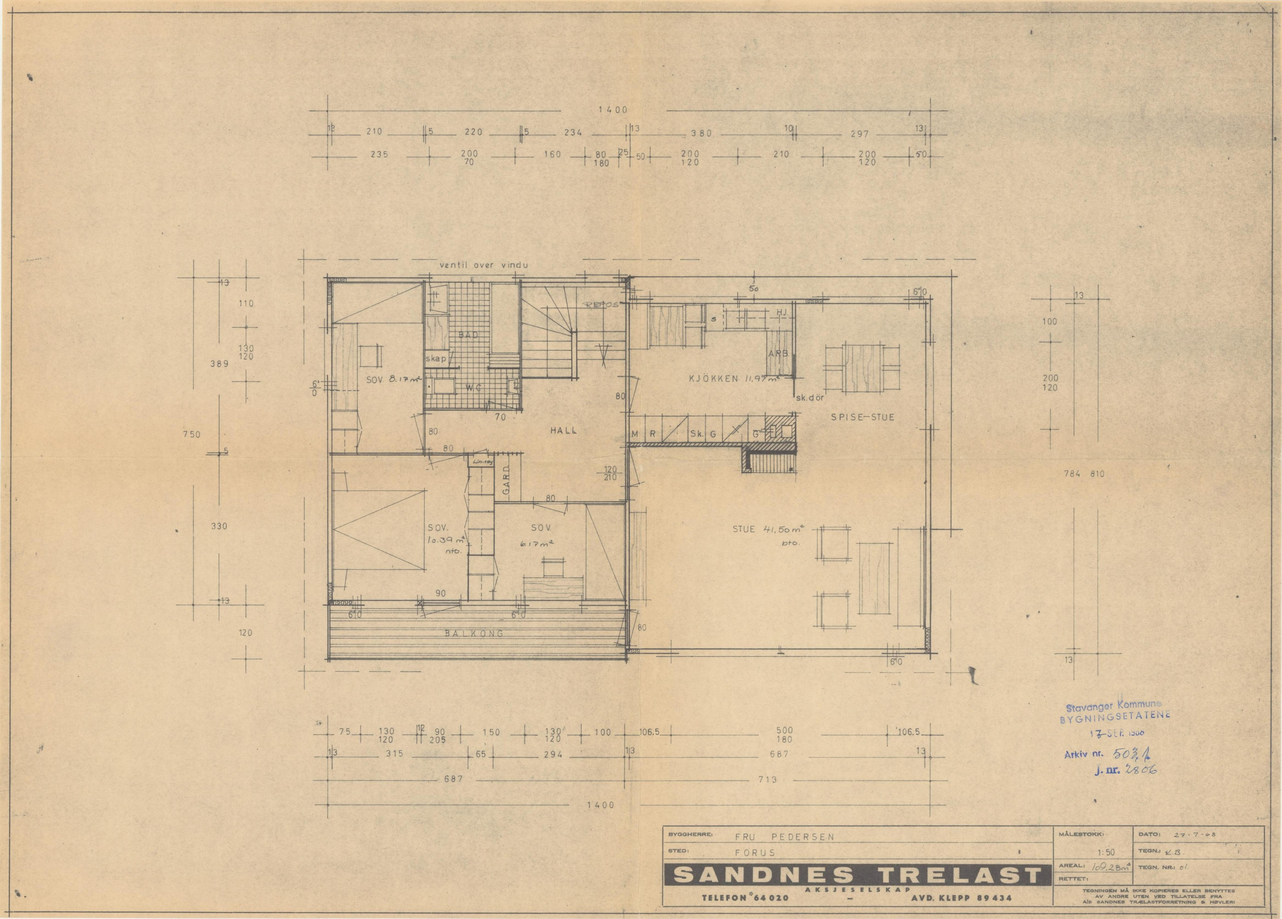plantegning: (326, 275, 933, 664)
